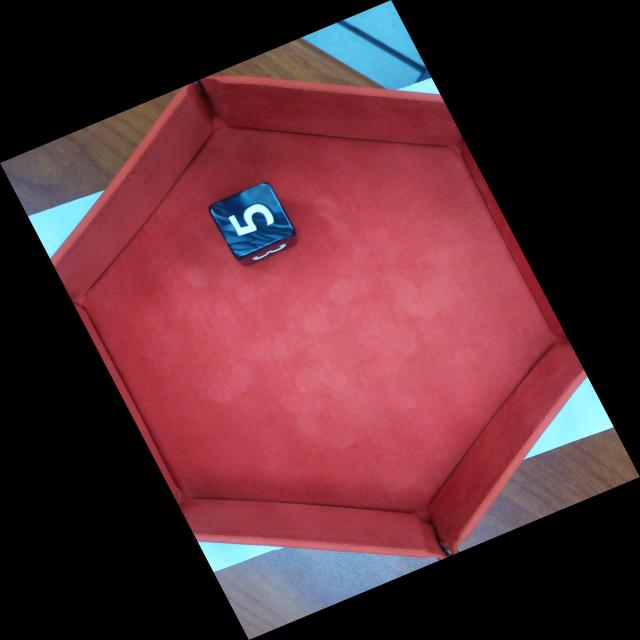dice: (205, 180, 298, 262)
